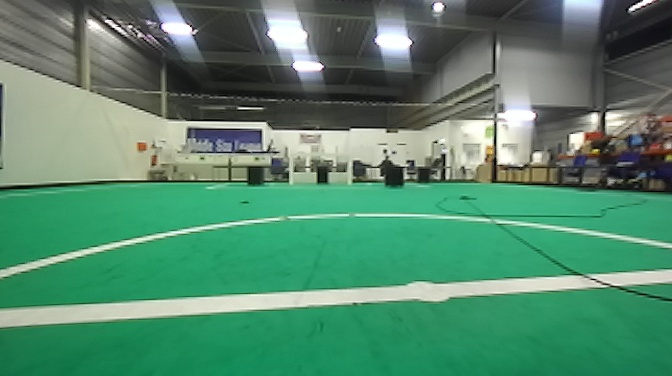goalpost: (347, 149, 354, 182), (287, 154, 294, 185)
